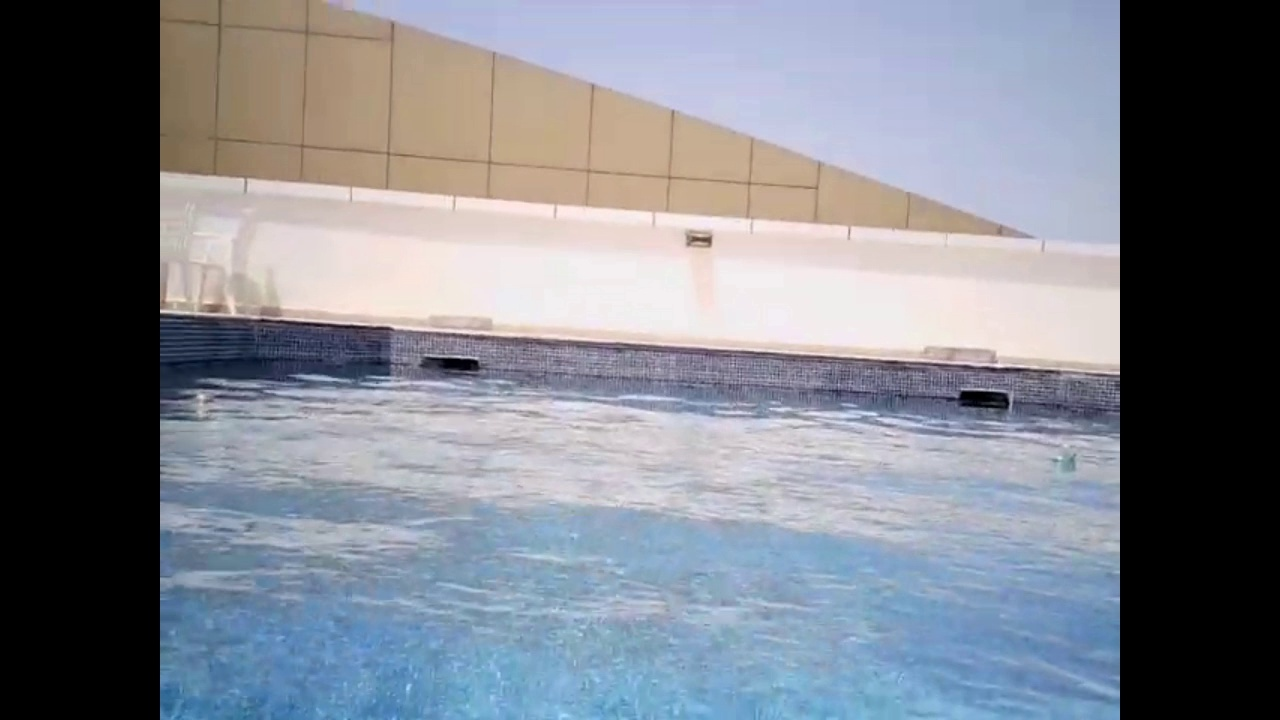debris: (1042, 436, 1082, 471), (190, 383, 220, 419)
